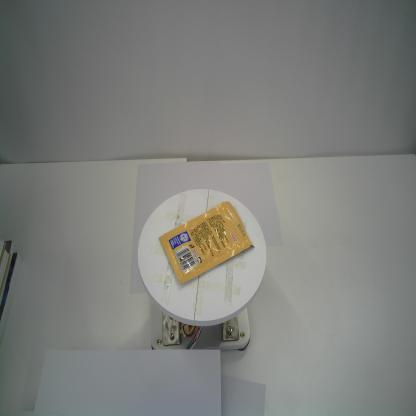Seasoner: (158, 201, 255, 285)
